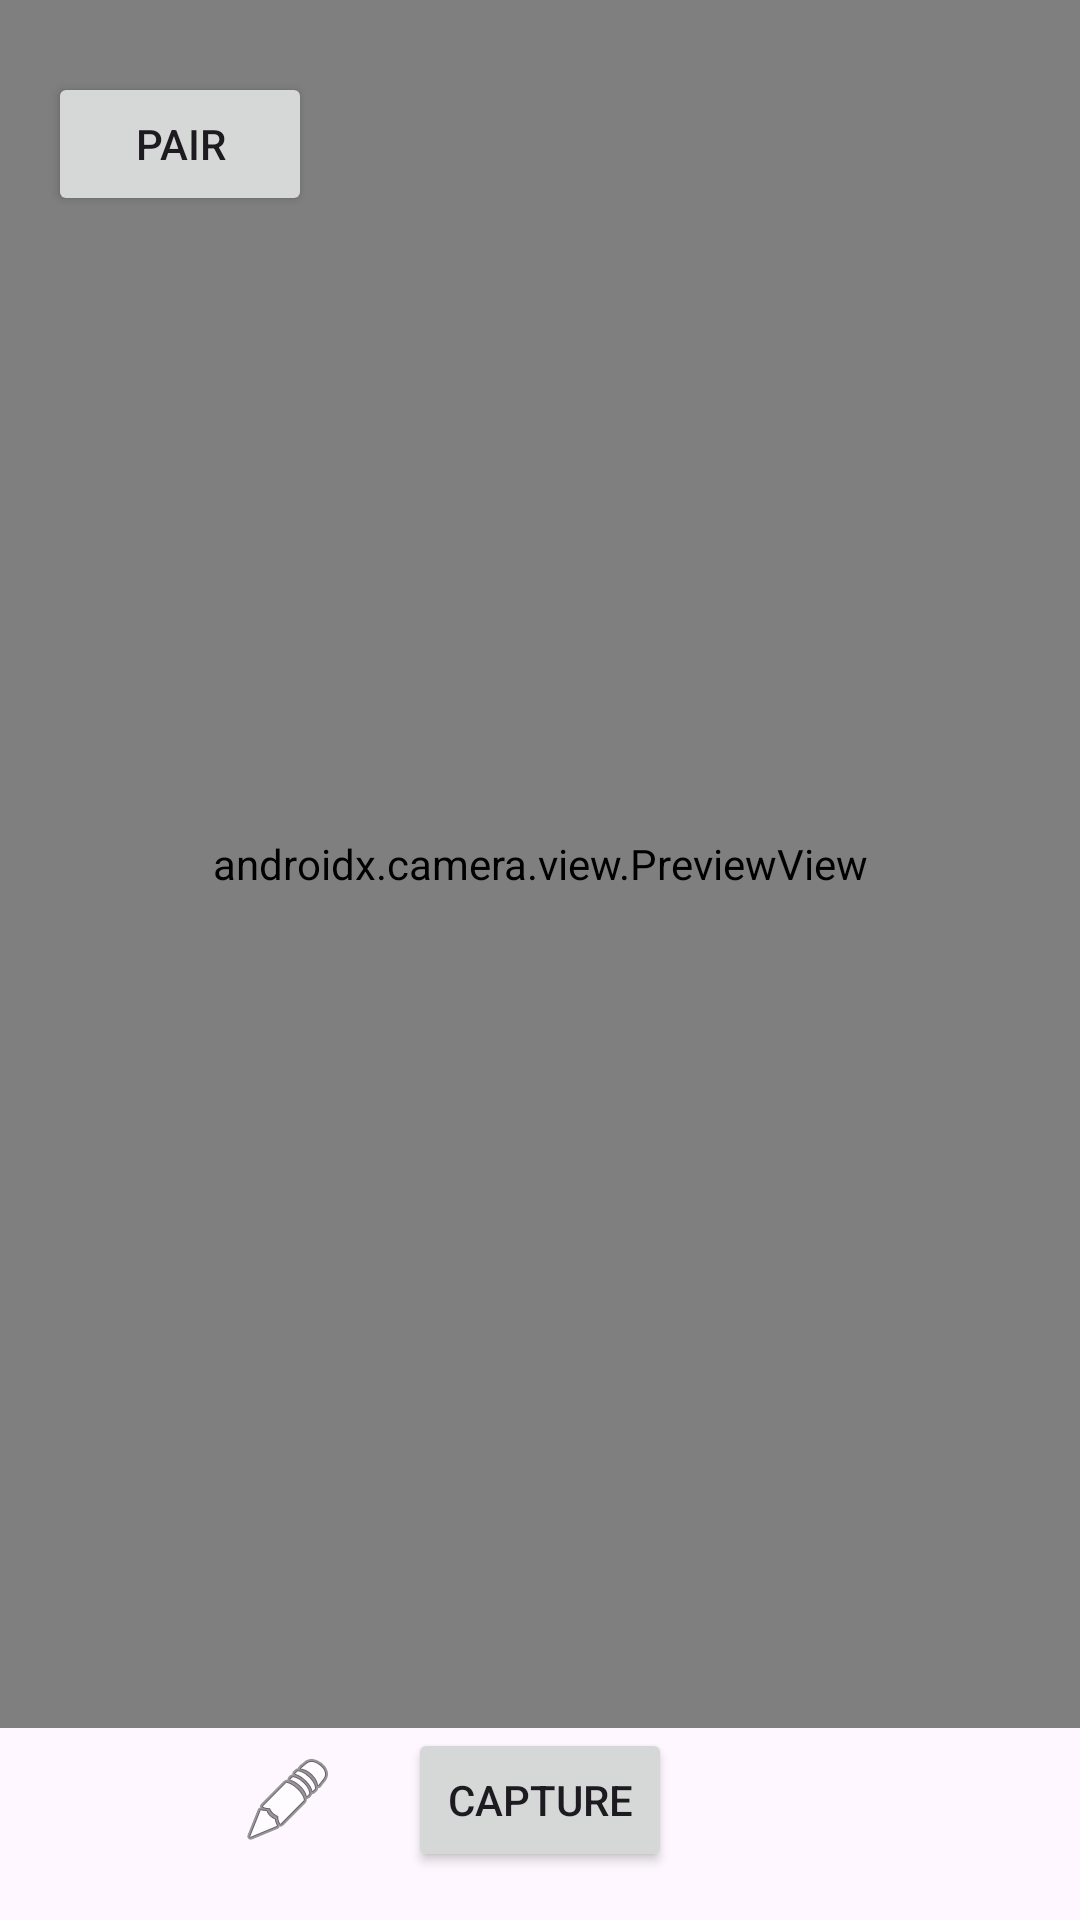

Icons on this 1080*1920 Android screen, each with the point to tap as [x,y]:
Manage presets: [287,1799]
